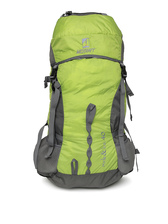bag: (30, 10, 142, 191)
